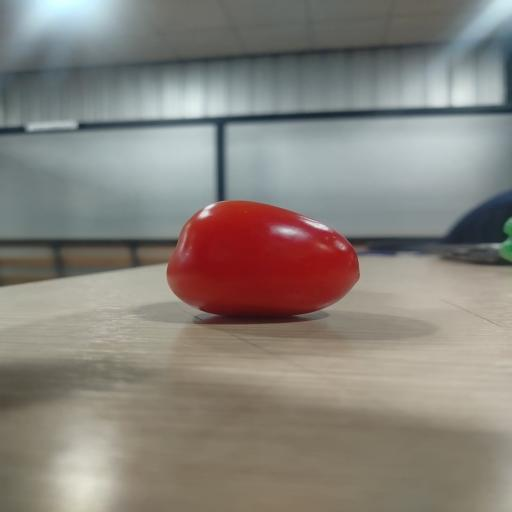ripe: (167, 201, 359, 316)
